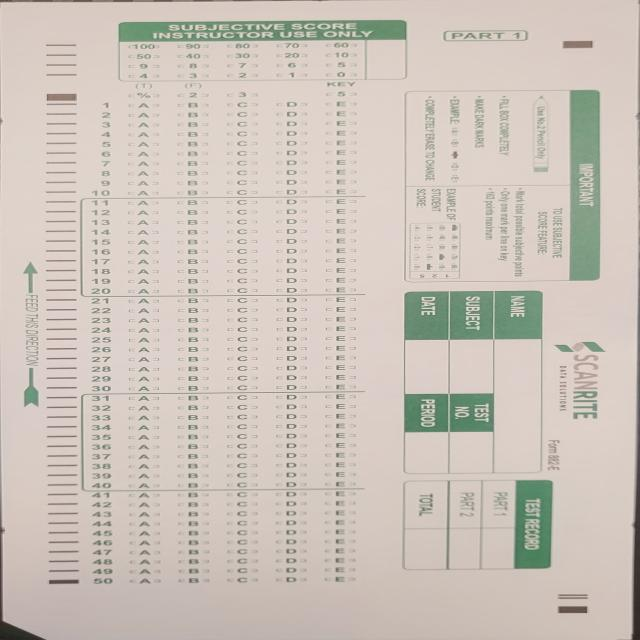scantron: (3, 1, 640, 640)
